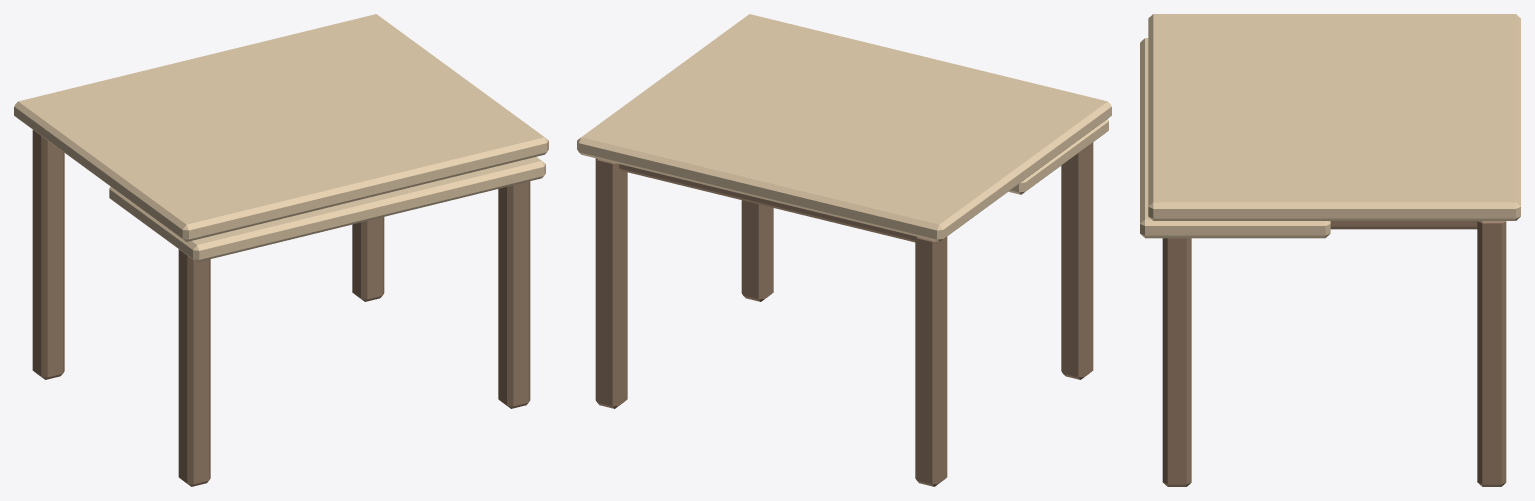
Rendered from ExtendableDiningTable.glb.
3 views of the same model, side by side, from view 1: azimuth 30°, elevation 25°; view 2: azimuth 150°, elevation 25°; view 3: azimuth 270°, elevation 25° (orthographic). The views are drawn at different scales.
Visible parts, largest first — view 1: ExtTable_Base, ExtTable_Leaf; view 2: ExtTable_Base, ExtTable_Leaf; view 3: ExtTable_Base, ExtTable_Leaf.
Part boxes in pixels (bbox=[...]): ExtTable_Base: bbox=[14, 14, 548, 486]; ExtTable_Leaf: bbox=[109, 156, 545, 262]; ExtTable_Base: bbox=[577, 14, 1111, 486]; ExtTable_Leaf: bbox=[1008, 119, 1108, 194]; ExtTable_Base: bbox=[1148, 14, 1520, 486]; ExtTable_Leaf: bbox=[1140, 38, 1330, 238].
Size of the model in its own units: 1.1 by 0.775 by 0.92.
